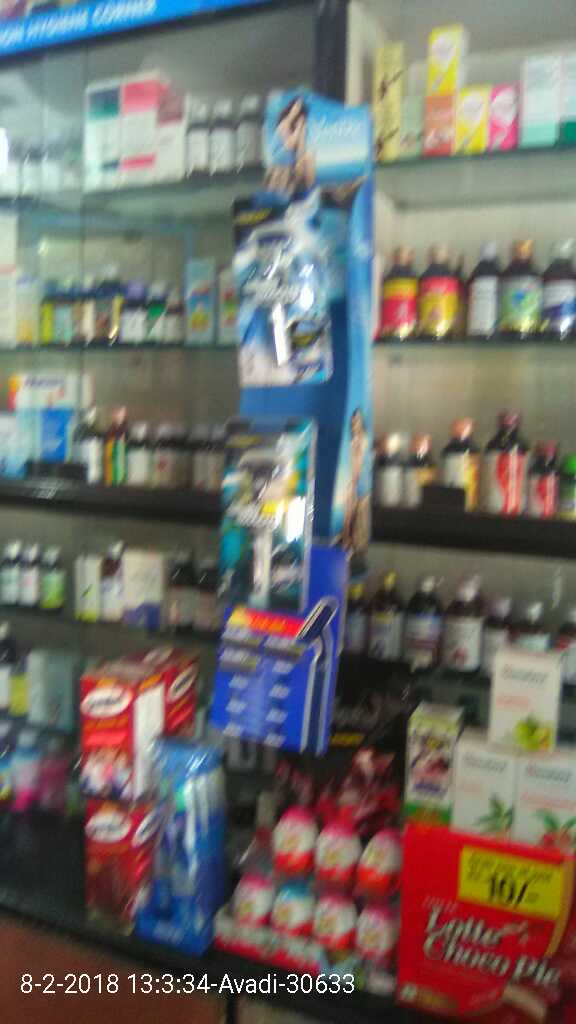gillette: (221, 189, 332, 378), (217, 417, 312, 608)
